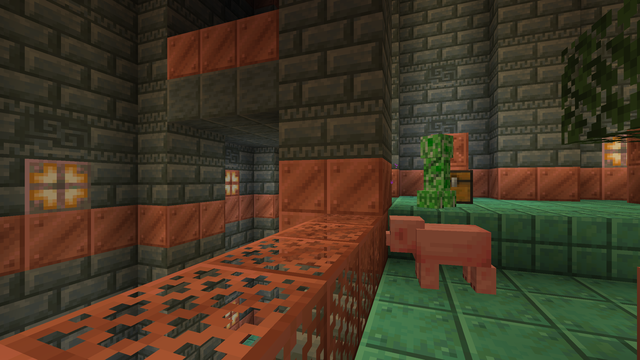cochons: (416, 219, 487, 298)
creepers: (422, 129, 452, 207)
